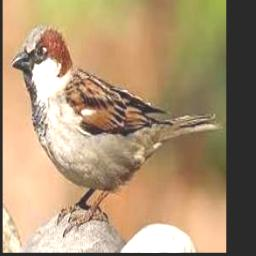Sparrow: (12, 26, 223, 236)
